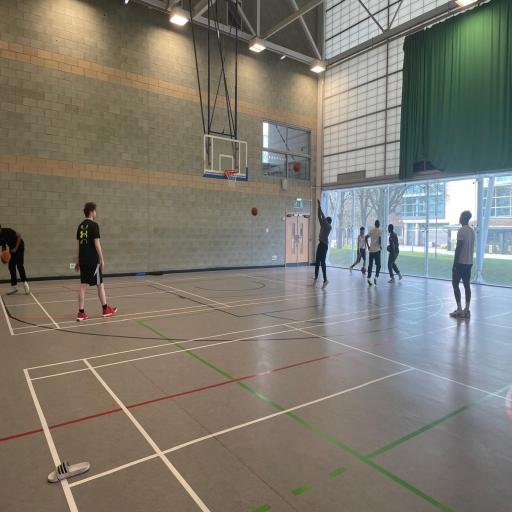hoops: (224, 166, 240, 195)
